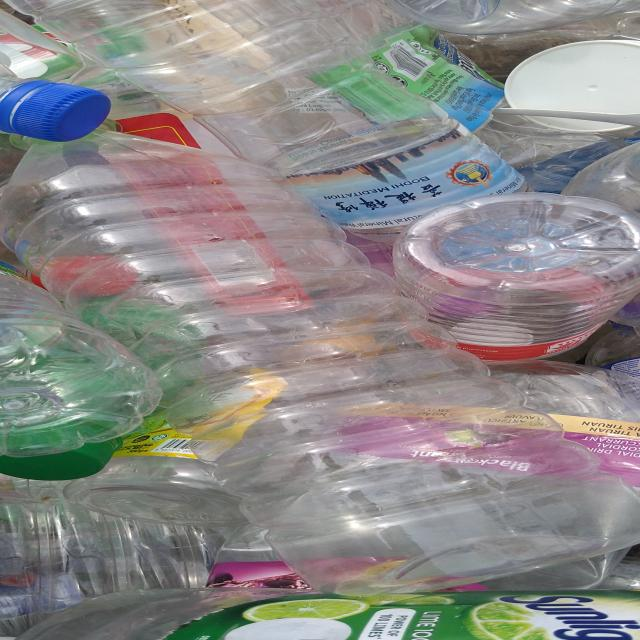plastic: (4, 122, 639, 591), (37, 0, 640, 362), (0, 578, 640, 640)
